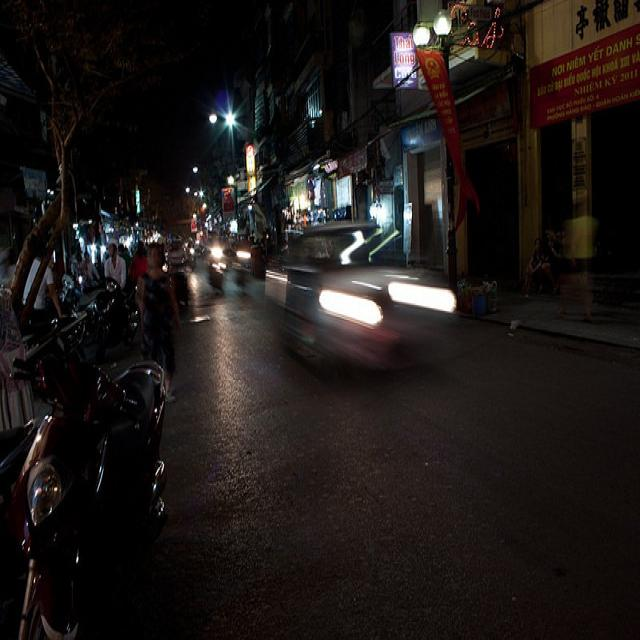Motorbike: (12, 409, 194, 628), (204, 221, 266, 308)
